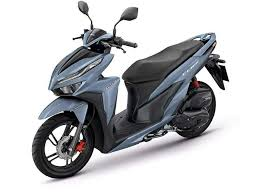motorcycle: (32, 1, 233, 178)
